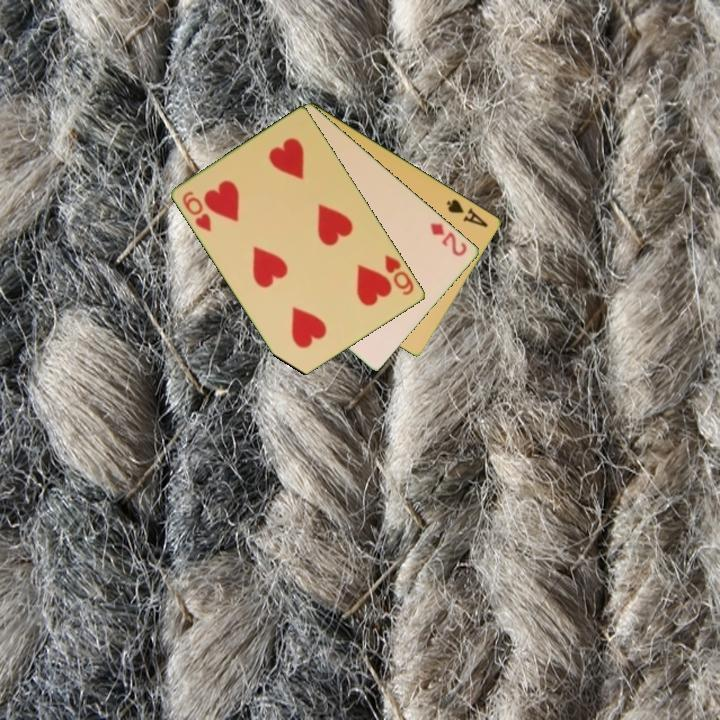2d: (427, 219, 470, 259)
6h: (381, 251, 417, 298), (179, 188, 215, 235)
As: (443, 195, 491, 230)
